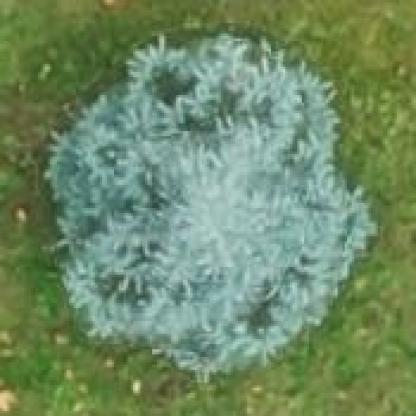Coniferous Tree: (35, 29, 387, 361)
